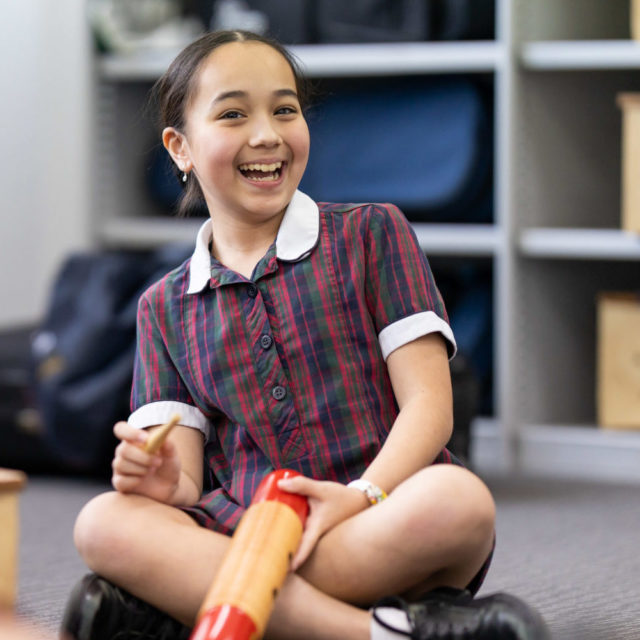human: (161, 42, 316, 212)
